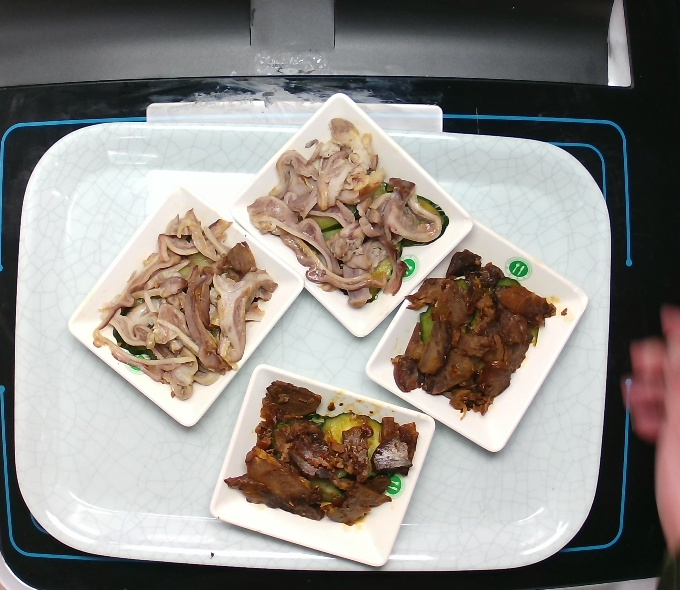wcq-JiangNiuRou: (223, 366, 426, 535), (390, 246, 559, 426)
wcq-ZhuDu: (247, 107, 453, 317), (84, 191, 274, 400)
